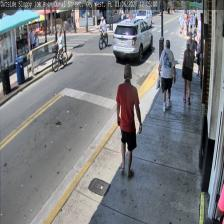person: (116, 62, 142, 178), (158, 40, 175, 112), (182, 39, 194, 105)
